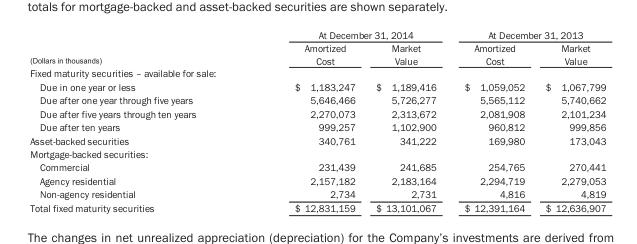table: (29, 29, 605, 213)
table column: (29, 29, 244, 213), (244, 29, 364, 213), (364, 29, 449, 213), (449, 29, 534, 213), (534, 29, 605, 213)
table column header: (29, 29, 605, 66)
table projected row header: (29, 146, 605, 160), (29, 66, 605, 79)
table row: (29, 41, 605, 66), (29, 92, 605, 106), (29, 119, 605, 133), (29, 146, 605, 160), (29, 173, 605, 187), (29, 66, 605, 79), (29, 79, 605, 92), (29, 106, 605, 119), (29, 133, 605, 146), (29, 160, 605, 173), (29, 187, 605, 200), (29, 200, 605, 213), (29, 29, 605, 41)
table spanning cell: (29, 29, 244, 66), (244, 29, 449, 41), (449, 29, 605, 41)
